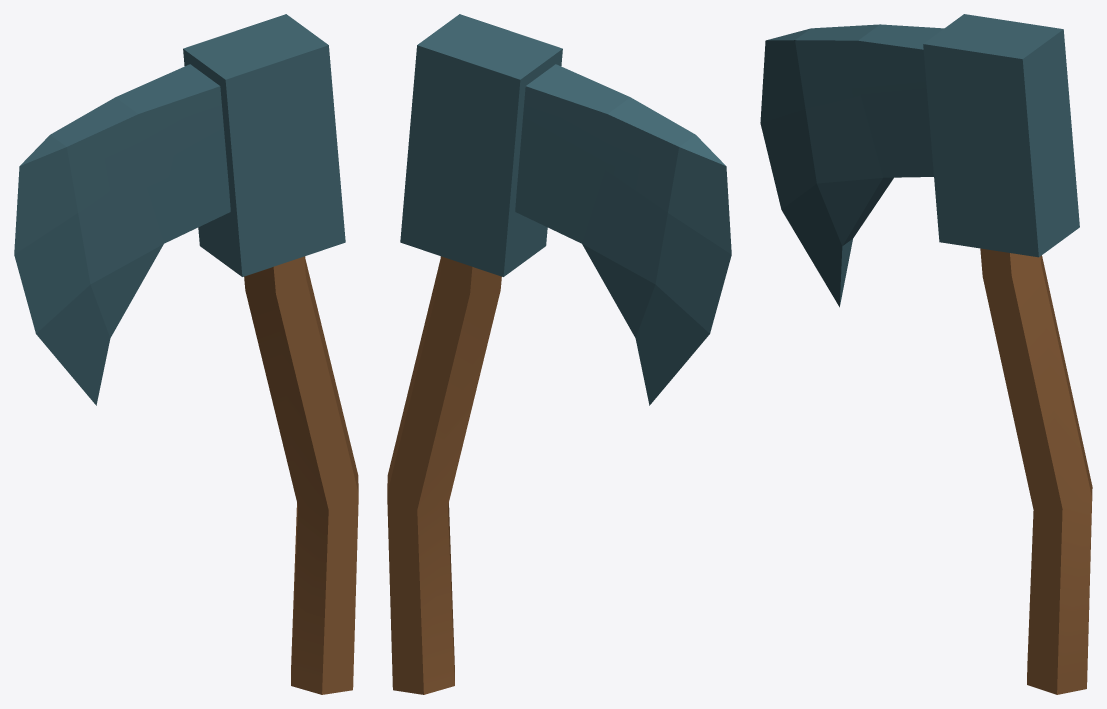
The model's file is axe.fbx.
3 views of the same model, side by side, from view 1: azimuth 30°, elevation 25°; view 2: azimuth 150°, elevation 25°; view 3: azimuth 330°, elevation 25° (orthographic). The views are drawn at different scales.
Visible parts, largest first — view 1: Line1319; view 2: Line1319; view 3: Line1319.
Boxes of the visible parts, left/top/right/bottom form: Line1319: left=14, top=14, right=358, bottom=694; Line1319: left=387, top=14, right=731, bottom=694; Line1319: left=760, top=14, right=1092, bottom=694.
Size of the model in its own units: 44.19 by 80.75 by 9.47.
